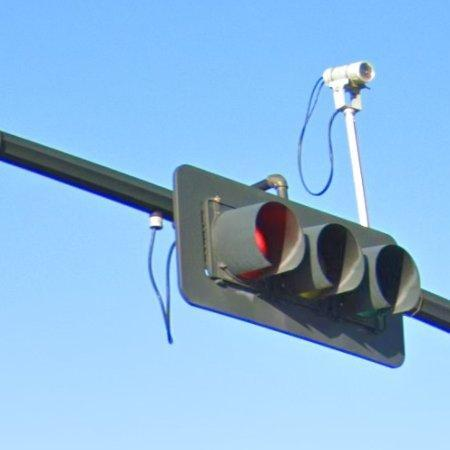traffic lights: (170, 161, 423, 369)
